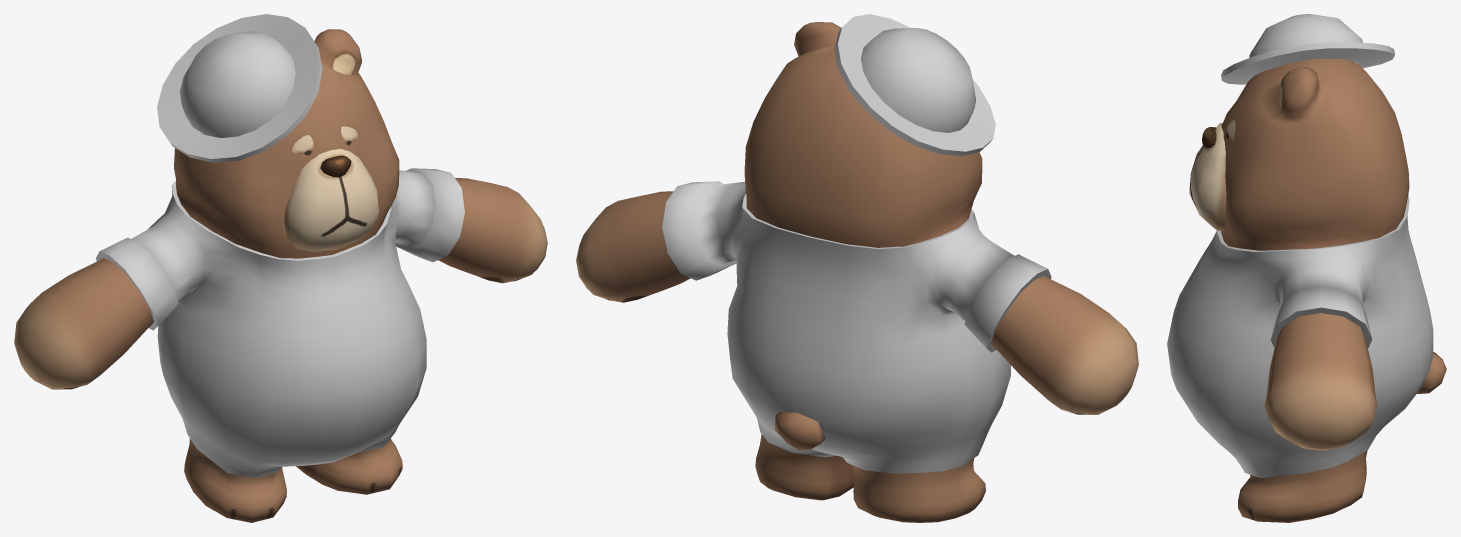
File: bear_Lv3.fbx
The picture shows the model from 3 angles, left to right: view 1: azimuth 30°, elevation 25°; view 2: azimuth 150°, elevation 25°; view 3: azimuth 270°, elevation 25°; orthographic projection. The views are drawn at different scales.
Parts seen in each view (by area): view 1: clothes2, bear, hat; view 2: clothes2, bear, hat; view 3: bear, clothes2, hat.
Part boxes in pixels (box(x1,y1,x2,y2)): clothes2: box(96, 168, 464, 478); bear: box(14, 29, 547, 522); hat: box(157, 14, 322, 162); clothes2: box(662, 181, 1051, 473); bear: box(576, 22, 1138, 522); hat: box(834, 14, 995, 155); bear: box(1189, 58, 1446, 522); clothes2: box(1167, 194, 1433, 477); hat: box(1221, 14, 1394, 84).
Size of the model in its own units: 212 by 181 by 102.
